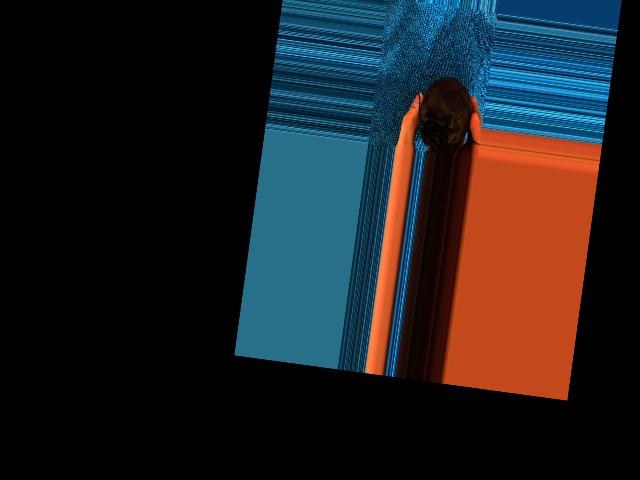beet: (408, 73, 476, 156)
